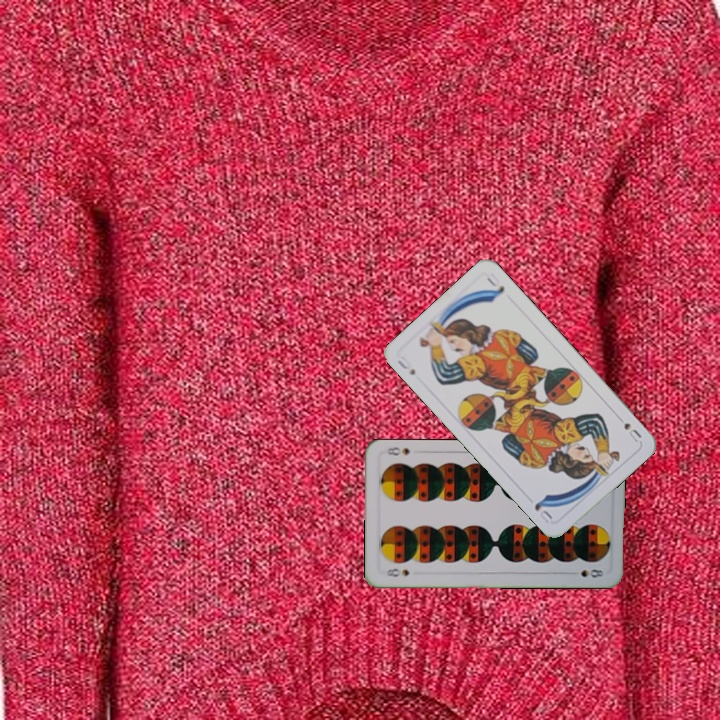S8: (383, 564, 412, 579)
SU: (620, 419, 644, 445), (393, 356, 418, 378)
